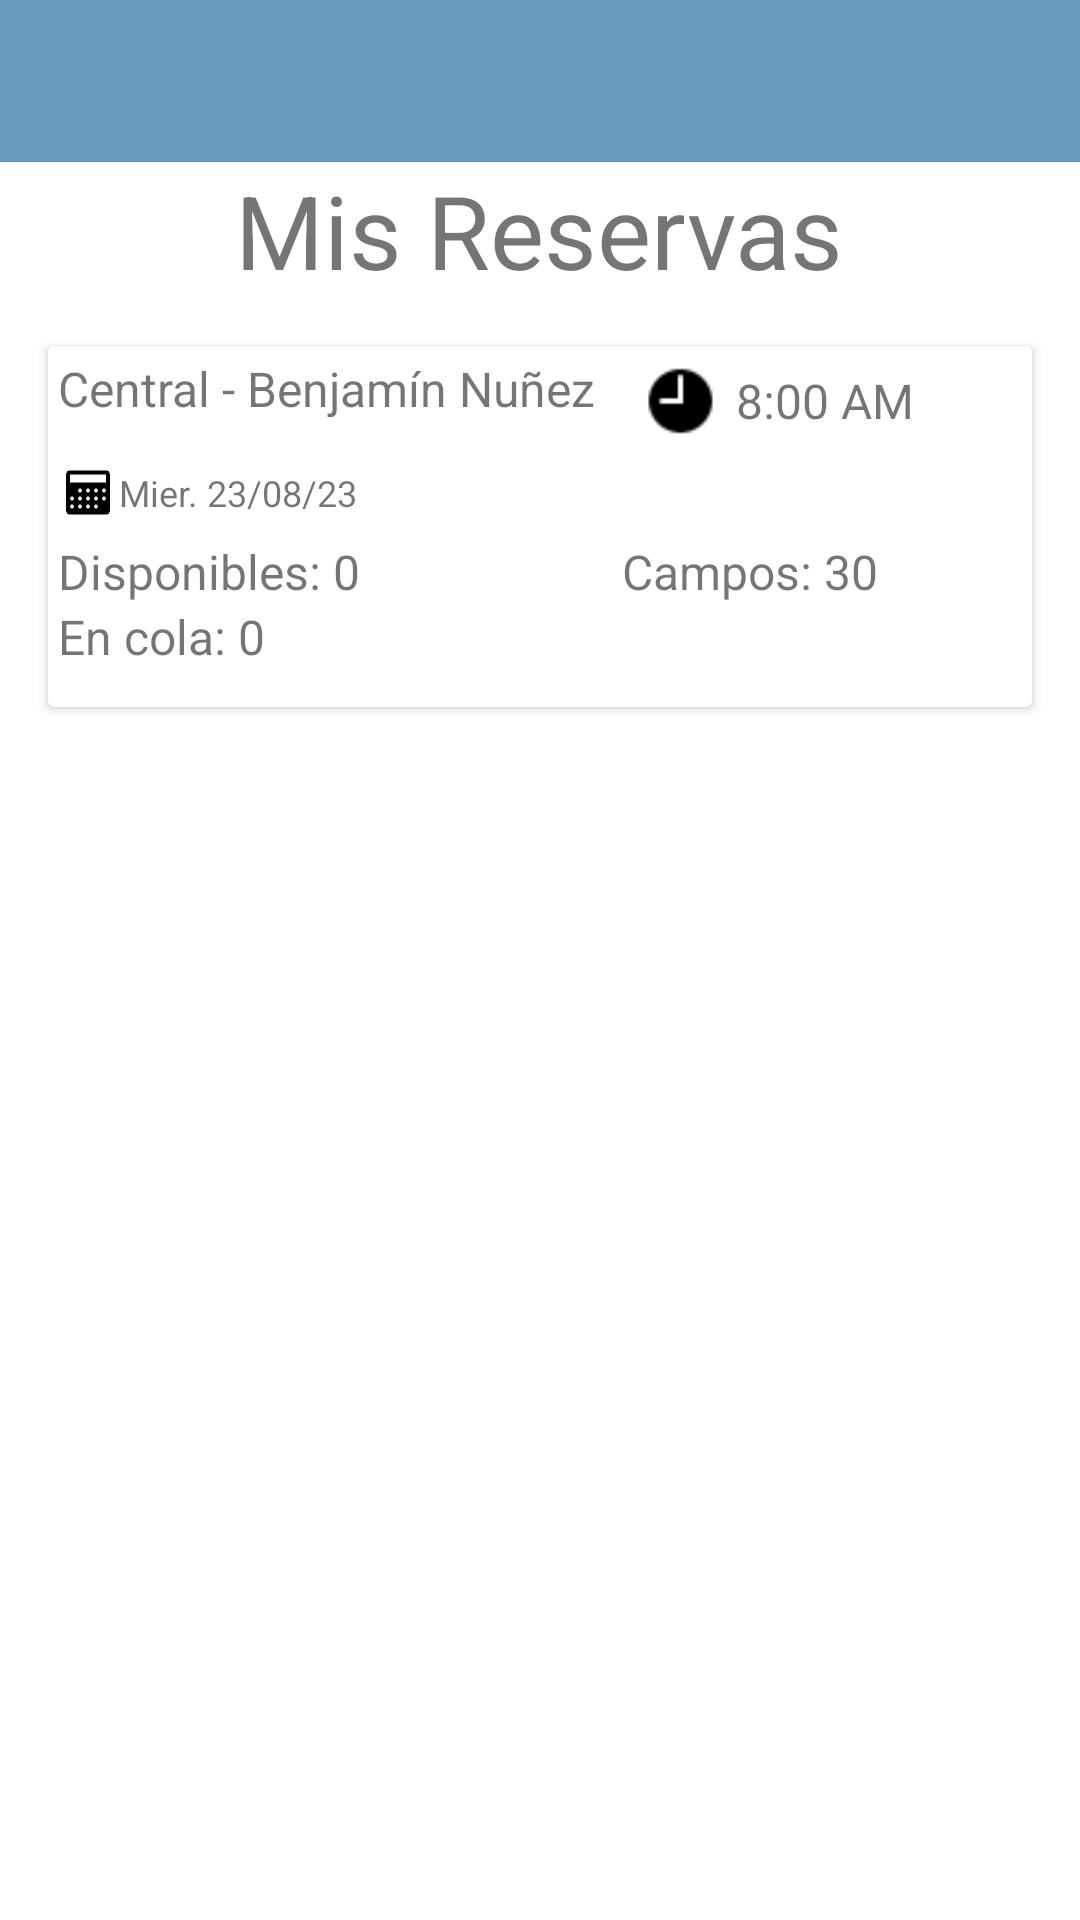

Where to tap for icons on this 1080px x 1920px app screen, as point (x, y):
calendar: point (88, 492)
clock: point (680, 401)
